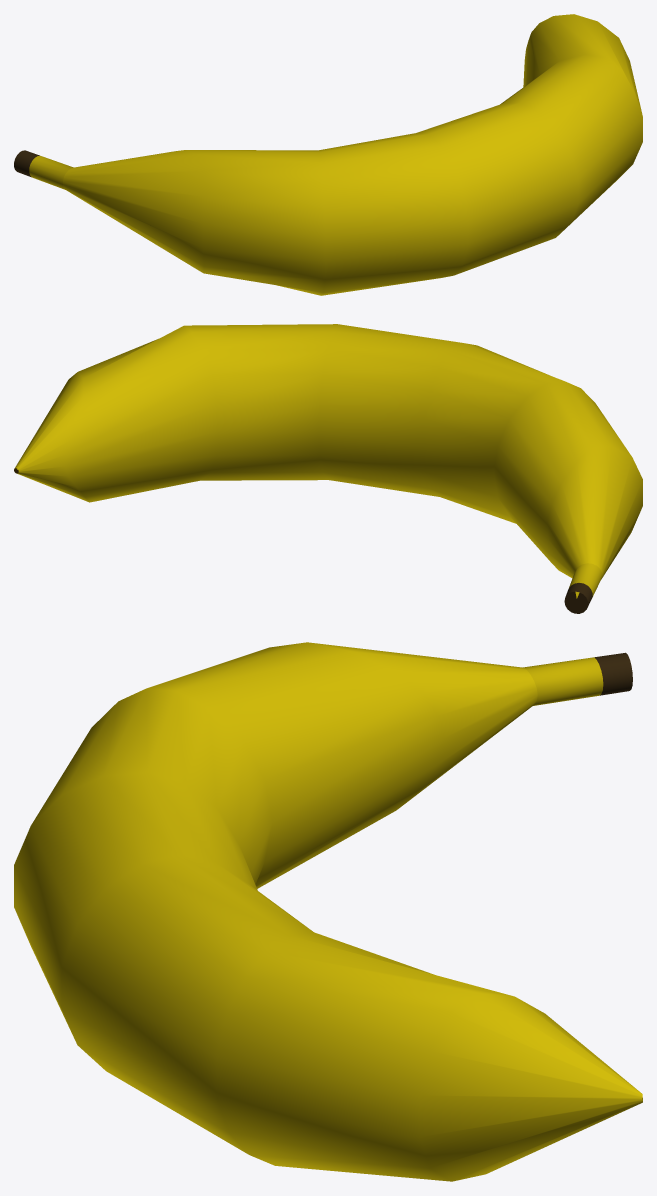
Rendered from Banana.fbx.
The picture shows the model from 3 angles, top to bottom: view 1: azimuth 30°, elevation 25°; view 2: azimuth 150°, elevation 25°; view 3: azimuth 270°, elevation 25°; orthographic projection. The views are drawn at different scales.
Parts seen in each view (by area): view 1: pTorus1; view 2: pTorus1; view 3: pTorus1.
Part boxes in pixels (x1,y1,x2,y2): pTorus1: (14,14,642,295); pTorus1: (14,324,642,613); pTorus1: (14,642,642,1181).
Bounding box in the file's own units: 0.0756 × 0.0177 × 0.0444.
